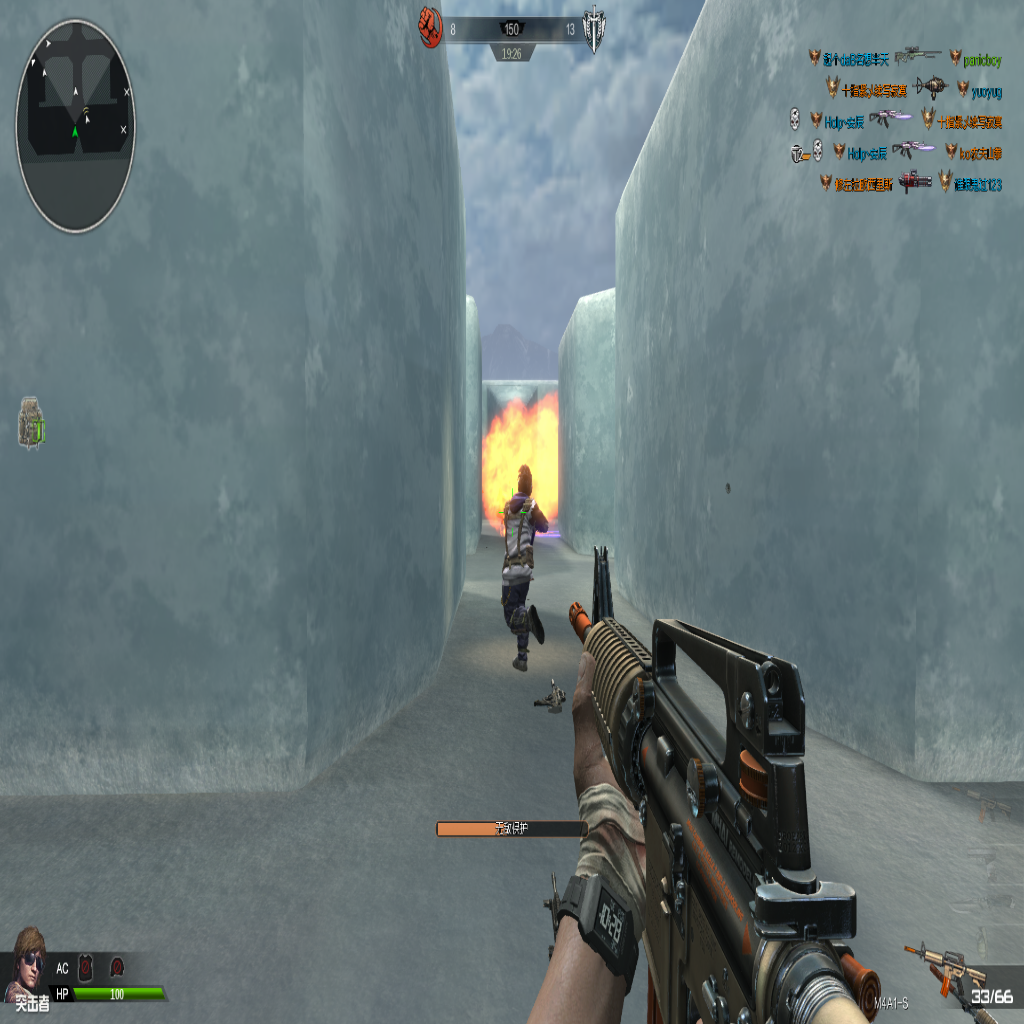tt: (501, 466, 548, 680)
